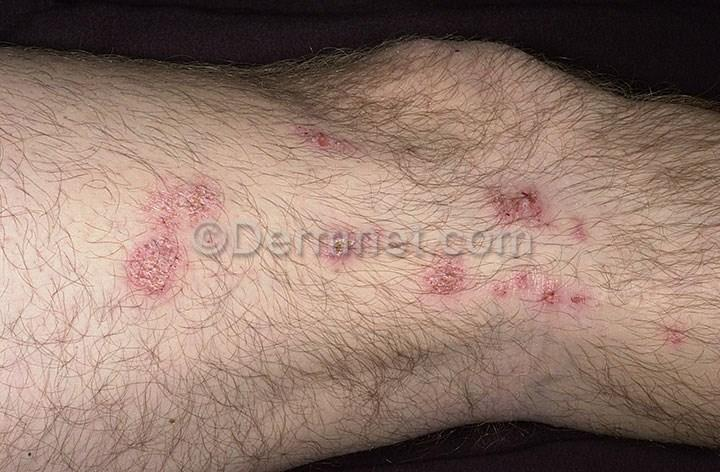Eczema: (109, 174, 226, 292), (463, 182, 561, 248), (509, 264, 596, 334), (393, 261, 474, 319), (289, 112, 367, 165), (304, 227, 372, 281)
